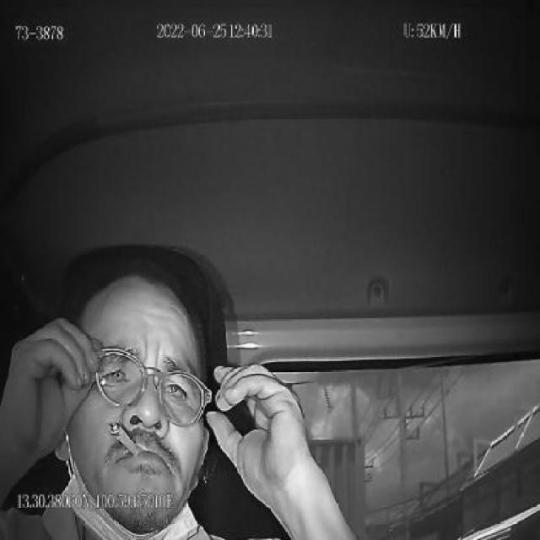smoking: (106, 416, 143, 457)
